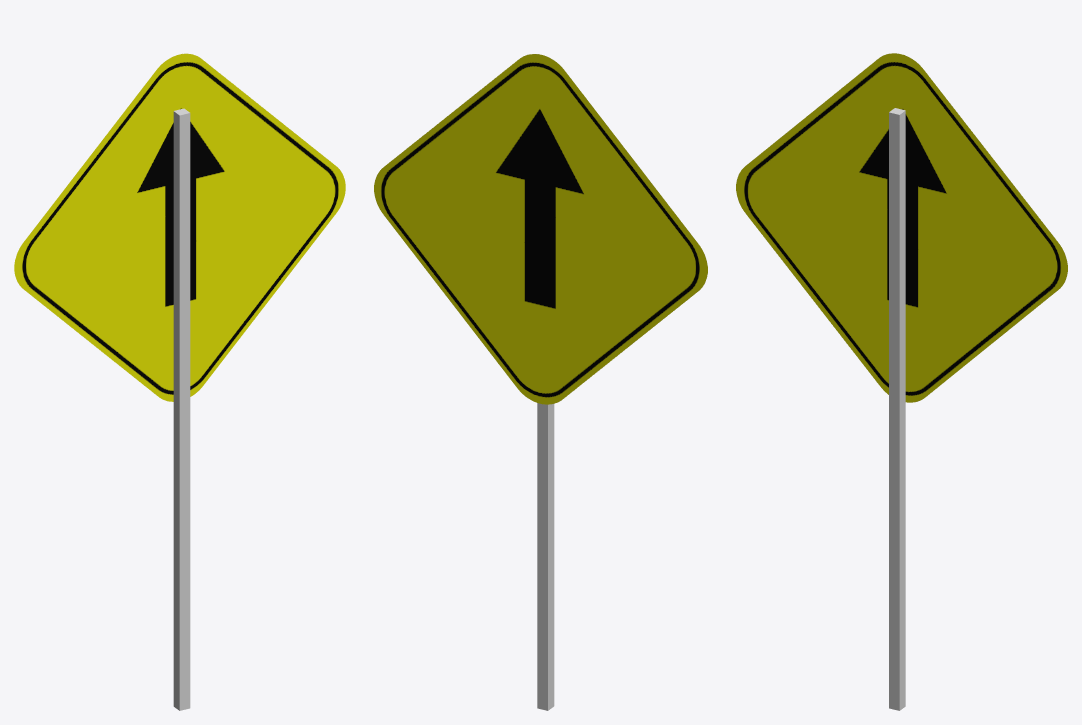
The model's file is upSign 1.fbx.
3 views of the same model, side by side, from view 1: azimuth 30°, elevation 25°; view 2: azimuth 150°, elevation 25°; view 3: azimuth 330°, elevation 25° (orthographic).
Parts seen in each view (by area): view 1: upSign, Cube; view 2: upSign, Cube; view 3: upSign, Cube.
Part boxes in pixels (x1=…): upSign: x1=14, y1=53, x2=345, y2=401; Cube: x1=173, y1=108, x2=190, y2=710; upSign: x1=374, y1=54, x2=707, y2=404; Cube: x1=537, y1=403, x2=554, y2=710; upSign: x1=736, y1=53, x2=1067, y2=402; Cube: x1=889, y1=108, x2=905, y2=710.
Size of the model in its own units: 1.74 by 3.26 by 0.058.
